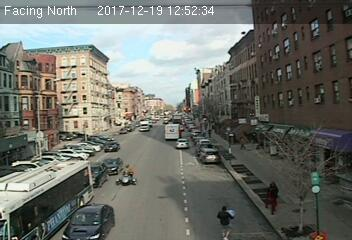car: (62, 203, 115, 240), (85, 161, 111, 190), (100, 156, 123, 174), (199, 147, 222, 163), (104, 142, 120, 153), (176, 138, 190, 149)
pedestrian: (217, 204, 240, 240)
truck: (164, 124, 181, 142)
